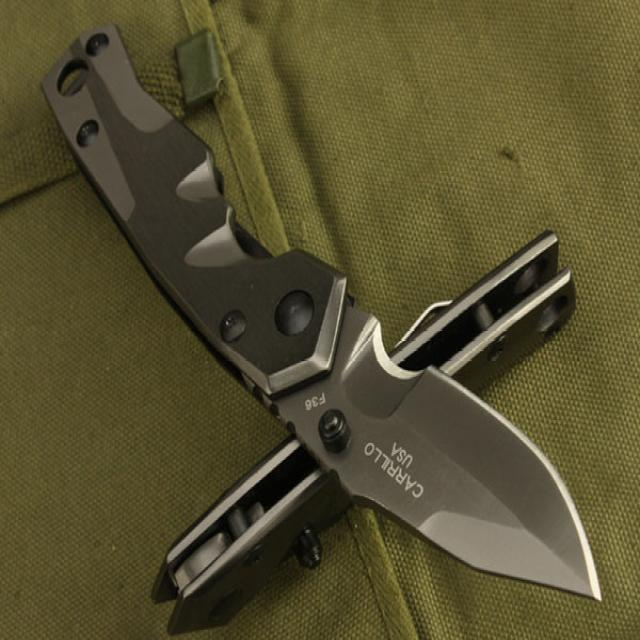knife: (38, 16, 606, 609)
